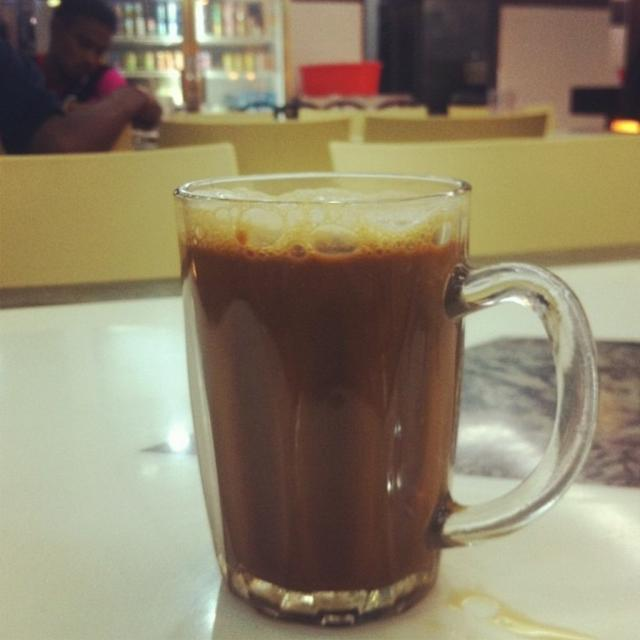Coffee: (170, 234, 476, 597)
Tea: (175, 188, 467, 626)
